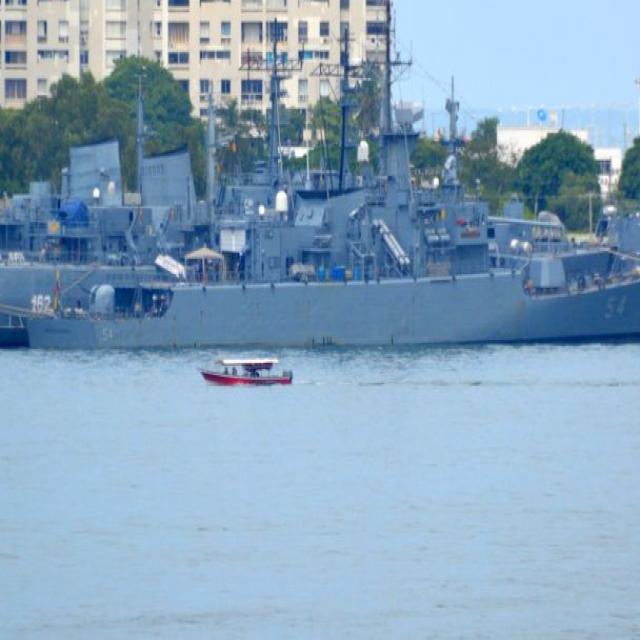Fragata: (1, 1, 640, 358)
